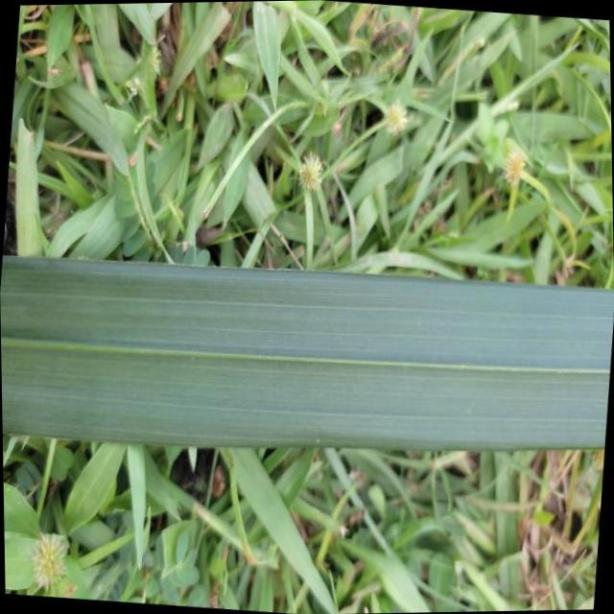Healthy: (0, 257, 614, 451)
